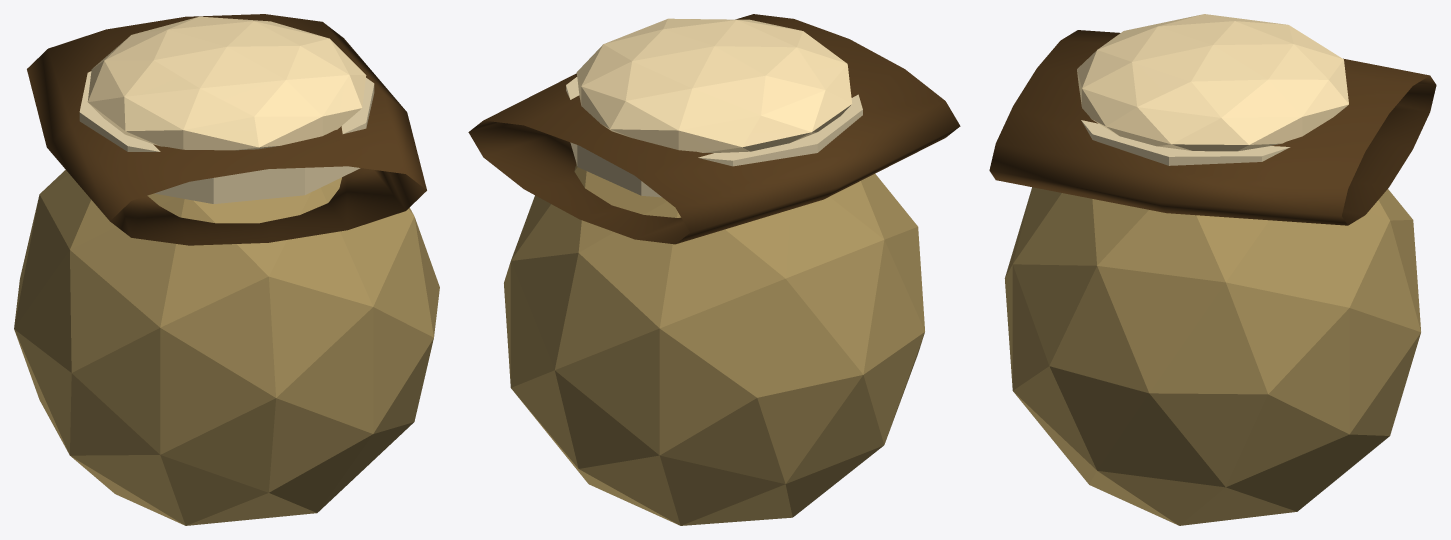
Rendered from pile-flour-1.obj.
3 views of the same model, side by side, from view 1: azimuth 30°, elevation 25°; view 2: azimuth 150°, elevation 25°; view 3: azimuth 270°, elevation 25° (orthographic).
Parts seen in each view (by area): view 1: pile-flour-1; view 2: pile-flour-1; view 3: pile-flour-1.
Boxes of the visible parts, x1=… form: pile-flour-1: x1=14, y1=14, x2=439, y2=525; pile-flour-1: x1=468, y1=14, x2=960, y2=525; pile-flour-1: x1=989, y1=14, x2=1436, y2=525.
Bounding box in the file's own units: 0.2515 × 0.3065 × 0.267.
Materials: 1 (1 with a texture image).
